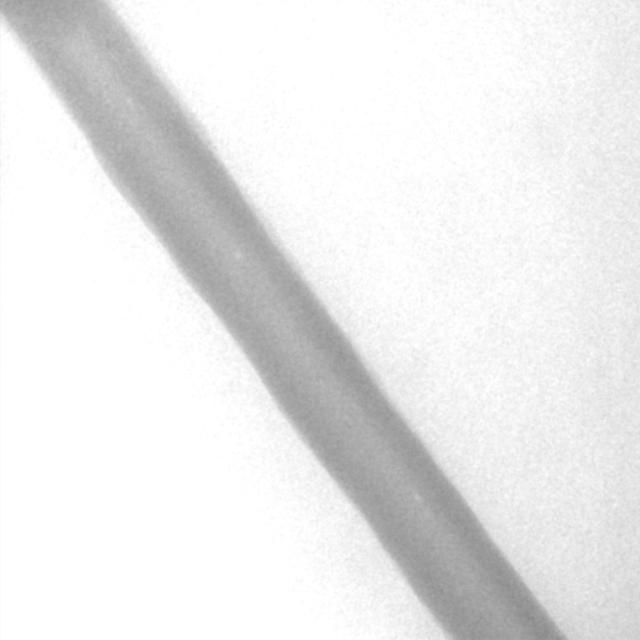air-hole: (416, 490, 423, 503), (235, 250, 242, 262)
